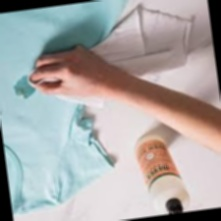oil: (11, 76, 29, 102), (23, 87, 41, 100)
